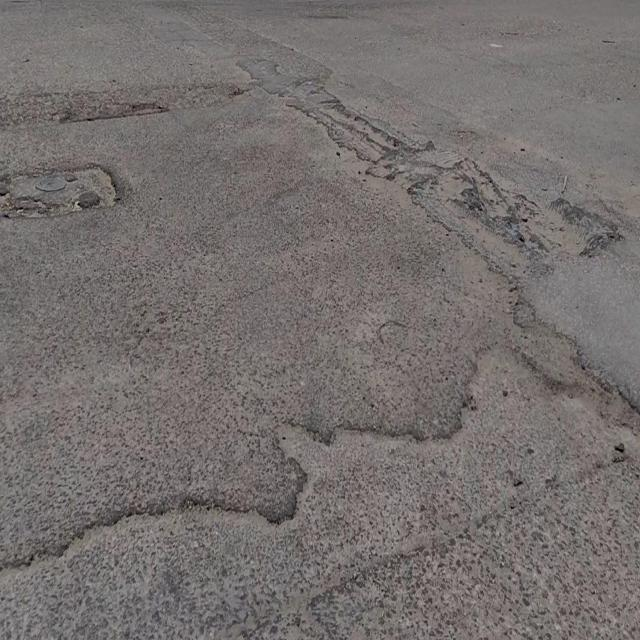Potholes: (0, 160, 121, 222)
